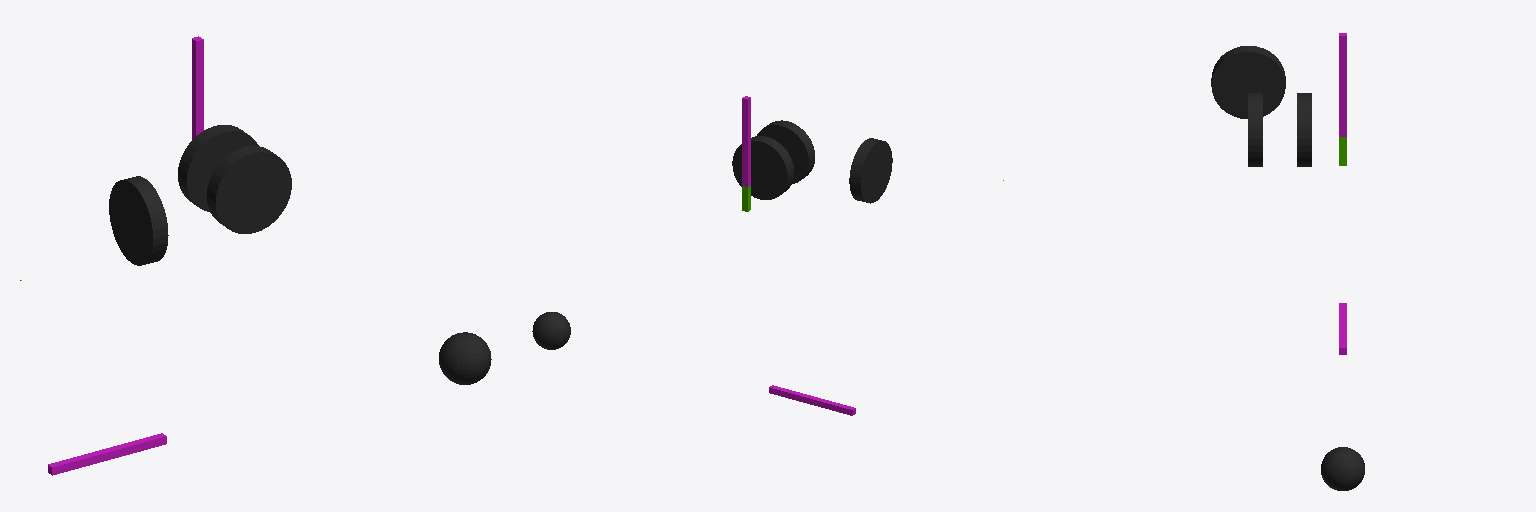
URDF robot description (b1_leg_description):
<?xml version="1.0" ?>
<!-- =================================================================================== -->
<!-- |    This document was autogenerated by xacro from robot.xacro                    | -->
<!-- |    EDITING THIS FILE BY HAND IS NOT RECOMMENDED                                 | -->
<!-- =================================================================================== -->
<robot name="b1_leg_description">
  <material name="grey">
    <color rgba="0.2 0.2 0.2 1.0"/>
  </material>
  <material name="silver">
    <color rgba="0.6980 0.7529 0.8392 1"/>
  </material>
  <material name="transparent_silver">
    <color rgba="0.75 0.75 0.75 0.3"/>
  </material>
  <link name="base">
    <inertial>
      <mass value="1e-6"/>
      <inertia ixx="1e-6" ixy="1e-6" ixz="1e-6" iyy="1e-6" iyz="1e-6" izz="1e-6"/>
    </inertial>
    <visual>
      <origin rpy="0 0 0" xyz="0 0 0"/>
      <geometry>
        <box size="0.001 0.001 0.001"/>
      </geometry>
    </visual>
  </link>
  <joint name="floating_base" type="fixed">
    <origin rpy="0 0 0" xyz="0 0 0"/>
    <parent link="base"/>
    <child link="trunk"/>
  </joint>
  <link name="trunk">
    <visual>
      <origin rpy="0 0 0" xyz="0 0 0"/>
      <geometry>
        <mesh filename="package://example-robot-data/robots/b1_description/meshes/trunk.dae" scale="1 1 1"/>
      </geometry>
      <material name="silver"/>
    </visual>
    <collision>
      <origin rpy="0 0 0" xyz="0 0 0"/>
      <geometry>
        <box size="0.647 0.3 0.15"/>
      </geometry>
    </collision>
    <inertial>
      <origin rpy="0 0 0" xyz="0.008987 0.002243 0.003013"/>
      <mass value="25"/>
      <inertia ixx="0.183142146" ixy="-0.001379002" ixz="-0.027956055" iyy="0.756327752" iyz="0.000193774" izz="0.783777558"/>
    </inertial>
  </link>
  

  <joint name="FL_hip_joint" type="revolute">
    <origin rpy="0 0 0" xyz="0.3455 0.072 0"/>
    <parent link="trunk"/>
    <child link="FL_hip"/>
    <axis xyz="1 0 0"/>
    <dynamics damping="0" friction="0"/>
    <limit effort="91.0035" lower="-0.75" upper="0.75" velocity="19.69"/>
  </joint>
  <joint name="FL_hip_rotor_joint" type="fixed">
    <origin rpy="0 0 0" xyz="0.1955 0.072 0"/>
    <parent link="trunk"/>
    <child link="FL_hip_rotor"/>
  </joint>
  <link name="FL_hip">
    <visual>
      <origin rpy="0 0 0" xyz="0 0 0"/>
      <geometry>
        <mesh filename="package://example-robot-data/robots/b1_description/meshes/hip.dae" scale="1 1 1"/>
      </geometry>
      <material name="silver"/>
    </visual>
    <collision>
      <origin rpy="1.5707963267948966 0 0" xyz="0 0.12675 0"/>
      <geometry>
        <cylinder length="0.04" radius="0.09"/>
      </geometry>
    </collision>
    <inertial>
      <origin rpy="0 0 0" xyz="-0.020298 0.009758 0.000109"/>
      <mass value="2.1"/>
      <inertia ixx="0.00406608" ixy="-0.000288071" ixz="-4.371e-06" iyy="0.008775259" iyz="1.811e-06" izz="0.006060348"/>
    </inertial>
  </link>
  <link name="FL_hip_rotor">
    <visual>
      <origin rpy="0 1.5707963267948966 0" xyz="0 0 0"/>
      <geometry>
        <cylinder length="0.02" radius="0.05"/>
      </geometry>
      <material name="grey"/>
    </visual>
    <collision>
      <origin rpy="0 1.5707963267948966 0" xyz="0 0 0"/>
      <geometry>
        <cylinder length="0.02" radius="0.05"/>
      </geometry>
    </collision>
    <inertial>
      <origin rpy="0 0 0" xyz="0.0 0.0 0.0"/>
      <mass value="0.199"/>
      <inertia ixx="0.00039249" ixy="0.0" ixz="0.0" iyy="0.000219397" iyz="0.0" izz="0.000219397"/>
    </inertial>
  </link>
  <joint name="FL_thigh_joint" type="revolute">
    <origin rpy="0 0 0" xyz="0 0.12675 0"/>
    <parent link="FL_hip"/>
    <child link="FL_thigh"/>
    <axis xyz="0 1 0"/>
    <dynamics damping="0" friction="0"/>
    <limit effort="93.33" lower="-1.0" upper="3.5" velocity="23.32"/>
  </joint>
  <joint name="FL_thigh_rotor_joint" type="fixed">
    <origin rpy="0 0 0" xyz="0.0 0.00935 0"/>
    <parent link="FL_hip"/>
    <child link="FL_thigh_rotor"/>
  </joint>
  <link name="FL_thigh">
    <visual>
      <origin rpy="0 0 0" xyz="0 0 0"/>
      <geometry>
        <mesh filename="package://example-robot-data/robots/b1_description/meshes/thigh.dae" scale="1 1 1"/>
      </geometry>
      <material name="transparent_silver"/>
    </visual>
    <collision>
      <origin rpy="0 1.5707963267948966 0" xyz="0 0 -0.175"/>
      <geometry>
        <box size="0.35 0.05 0.08"/>
      </geometry>
    </collision>
    <inertial>
      <origin rpy="0 0 0" xyz="-0.000235 -0.028704 -0.054169"/>
      <mass value="3.934"/>
      <inertia ixx="0.044459086" ixy="0.000128738" ixz="-0.002343913" iyy="0.046023457" iyz="0.006032996" izz="0.008696078"/>
    </inertial>
  </link>
  <link name="FL_thigh_rotor">
    <visual>
      <origin rpy="1.5707963267948966 0 0" xyz="0 0 0"/>
      <geometry>
        <cylinder length="0.02" radius="0.05"/>
      </geometry>
      <material name="grey"/>
    </visual>
    <collision>
      <origin rpy="1.5707963267948966 0 0" xyz="0 0 0"/>
      <geometry>
        <cylinder length="0.02" radius="0.05"/>
      </geometry>
    </collision>
    <inertial>
      <origin rpy="0 0 0" xyz="0.0 0.0 0.0"/>
      <mass value="0.266"/>
      <inertia ixx="0.000485657" ixy="0.0" ixz="0.0" iyy="0.00091885" iyz="0.0" izz="0.000485657"/>
    </inertial>
  </link>
  <joint name="FL_calf_joint" type="revolute">
    <origin rpy="0 0 0" xyz="0 0 -0.35"/>
    <parent link="FL_thigh"/>
    <child link="FL_calf"/>
    <axis xyz="0 1 0"/>
    <dynamics damping="0" friction="0"/>
    <limit effort="140" lower="-2.6" upper="-0.6" velocity="15.55"/>
  </joint>
  <joint name="FL_calf_rotor_joint" type="fixed">
    <origin rpy="0 0 0" xyz="0.0 -0.0519 0"/>
    <parent link="FL_thigh"/>
    <child link="FL_calf_rotor"/>
  </joint>
  <link name="FL_calf">
    <visual>
      <origin rpy="0 0 0" xyz="0 0 0"/>
      <geometry>
        <mesh filename="package://example-robot-data/robots/b1_description/meshes/calf.dae" scale="1 1 1"/>
      </geometry>
      <material name="">
        <color rgba="0 0.514 0.706 1"/>
      </material>
    </visual>
    <collision>
      <origin rpy="0 1.5707963267948966 0" xyz="0 0 -0.175"/>
      <geometry>
        <box size="0.35 0.04 0.05"/>
      </geometry>
    </collision>
    <inertial>
      <origin rpy="0 0 0" xyz="0.005237 0.0 -0.202805"/>
      <mass value="0.857"/>
      <inertia ixx="0.015011003" ixy="5.2e-08" ixz="0.000250042" iyy="0.015159462" iyz="4.61e-07" izz="0.000375749"/>
    </inertial>
  </link>
  <!-- Crank Bar 1: from FL_calf -->
  <!-- we do not create this link as is part of the calf -->
  <!-- Crank Bar 2: from FL_thigh -->
  <link name="crank_bar2">
    <visual>
      <origin xyz="0 0 0.0215" rpy="0 0 0"/>
      <geometry>
        <box size="0.01 0.01 0.043"/>
      </geometry>
      <material name="">
        <color rgba="0.306 0.718 0 1"/>
      </material>
    </visual>
    <inertial>
      <origin xyz="0 0 0.075"/>
      <!-- <mass value="0.1"/>
      <inertia ixx="1e-5" iyy="1e-5" izz="1e-5"
              ixy="0" ixz="0" iyz="0"/> -->
      <mass value="0.042983526200894434099" />
      <inertia ixx="3.1451616122066398441e-05" ixy="1.9173443803063235313e-07"  ixz="2.0656042968637758375e-09" iyy="2.2236768363406883258e-06" iyz="2.9741566461375707579e-07" izz="3.2300886724211322755e-05" />
    </inertial>
  </link>
  <joint name="crank_bar2_thigh" type="revolute">
    <origin xyz="0 0 -0.0515" rpy="0 0 0"/>
    <parent link="FL_thigh"/>
    <child link="crank_bar2"/>
    <axis xyz="0 1 0"/>
    <limit effort="10" velocity="5" lower="-3.14" upper="3.14"/>
  </joint>
  <!-- Link1 Bar 3: actuator bar (split bar) -->
  <link name="link_1_loop3D_bar3">
    <visual>
      <origin xyz="0 0 0.075" rpy="0 0 0"/>
      <geometry>
        <box size="0.01 0.01 0.15"/>
      </geometry>
      <material name="">
        <color rgba="0.8 0.145 0.788 1"/>
      </material>
    </visual>
    <inertial>
      <origin xyz="0 0 0.0215"/>
      <!-- <mass value="0.75"/>
      <inertia ixx="1e-5" iyy="1e-5" izz="1e-5"
              ixy="0" ixz="0" iyz="0"/> -->
      <mass value="0.042983526200894434099" />
      <inertia ixx="3.1451616122066398441e-05" ixy="1.9173443803063235313e-07"  ixz="2.0656042968637758375e-09" iyy="2.2236768363406883258e-06" iyz="2.9741566461375707579e-07" izz="3.2300886724211322755e-05" />
    </inertial>
  </link>
  <joint name="link_1_crank_bar1" type="revolute">
    <origin xyz="0.00322198 0 0.04287912" rpy="0 0 0"/>
    <parent link="FL_calf"/>
    <child link="link_1_loop3D_bar3"/>
    <axis xyz="0 1 0"/>
    <limit effort="10" velocity="5" lower="-3.14" upper="3.14"/>
  </joint>
  <!-- Link2 Bar 3: actuator bar (split bar) -->
  <link name="link_2_loop3D_bar3">
    <visual>
      <origin xyz="0 0 0.075" rpy="0 0 0"/>
      <geometry>
        <box size="0.01 0.01 0.15"/>
      </geometry>
      <material name="">
        <color rgba="0.8 0.145 0.788 1"/>
      </material>
    </visual>
    <inertial>
      <origin xyz="0 0 0.0215"/>
      <!-- <mass value="0.75"/>
      <inertia ixx="1e-5" iyy="1e-5" izz="1e-5"
              ixy="0" ixz="0" iyz="0"/> -->
      <mass value="0.042983526200894434099" />
      <inertia ixx="3.1451616122066398441e-05" ixy="1.9173443803063235313e-07"  ixz="2.0656042968637758375e-09" iyy="2.2236768363406883258e-06" iyz="2.9741566461375707579e-07" izz="3.2300886724211322755e-05" />
    </inertial>
  </link>
  <joint name="link_2_crank_bar2" type="revolute">
    <origin xyz="0 0 0.043" rpy="0 0 0"/>
    <parent link="crank_bar2"/>
    <child link="link_2_loop3D_bar3"/>
    <axis xyz="0 1 0"/>
    <limit effort="10" velocity="5" lower="-3.14" upper="3.14"/>
  </joint>
  <!-- Dummy link for the constraint -->
  <link name="closedloop3D_1A">
    <inertial>
      <origin xyz="0 0 0" rpy="0 0 0" />
      <mass value="1e-9" />
      <inertia ixx="0" ixy="0" ixz="0" iyy="0" iyz="0" izz="0" />
    </inertial>
  </link>
  <joint name="closedloop3D_1A_frame" type="fixed">
    <origin xyz="0 0 0.15" rpy="0 3.1415 0"/> 
    <parent link="link_2_loop3D_bar3" />
    <child link="closedloop3D_1A" />
    <axis xyz="0 0 0" />
  </joint>
  <link name="closedloop3D_1B">
    <inertial>
      <origin xyz="0 0 0" rpy="0 0 0" />
      <mass value="1e-9" />
      <inertia ixx="0" ixy="0" ixz="0" iyy="0" iyz="0" izz="0" />
    </inertial>
  </link>
  <joint name="closedloop3D_1B_frame" type="fixed">
    <origin xyz="0 0 0.15" rpy="0 0 0"/> 
    <parent link="link_1_loop3D_bar3" />
    <child link="closedloop3D_1B" />
    <axis xyz="0 0 0" />
  </joint>

  <link name="FL_calf_rotor">
    <visual>
      <origin rpy="1.5707963267948966 0 0" xyz="0 0 0"/>
      <geometry>
        <cylinder length="0.02" radius="0.05"/>
      </geometry>
      <material name="grey"/>
    </visual>
    <collision>
      <origin rpy="1.5707963267948966 0 0" xyz="0 0 0"/>
      <geometry>
        <cylinder length="0.02" radius="0.05"/>
      </geometry>
    </collision>
    <inertial>
      <origin rpy="0 0 0" xyz="0.0 0.0 0.0"/>
      <mass value="0.266"/>
      <inertia ixx="0.000485657" ixy="0.0" ixz="0.0" iyy="0.00091885" iyz="0.0" izz="0.000485657"/>
    </inertial>
  </link>
  <joint name="FL_foot_fixed" type="fixed">
    <origin rpy="0 0 0" xyz="0 0 -0.35"/>
    <parent link="FL_calf"/>
    <child link="FL_foot"/>
  </joint>
  <link name="FL_foot">
    <visual>
      <origin rpy="0 0 0" xyz="0 0 0"/>
      <geometry>
        <sphere radius="0.03"/>
      </geometry>
      <material name="grey"/>
    </visual>
    <collision>
      <origin rpy="0 0 0" xyz="0 0 0"/>
      <geometry>
        <sphere radius="0.04"/>
      </geometry>
    </collision>
    <inertial>
      <mass value="0.05"/>
      <inertia ixx="3.2000000000000005e-05" ixy="0.0" ixz="0.0" iyy="3.2000000000000005e-05" iyz="0.0" izz="3.2000000000000005e-05"/>
    </inertial>
  </link>
  <transmission name="FL_hip_tran">
    <type>transmission_interface/SimpleTransmission</type>
    <joint name="FL_hip_joint">
      <hardwareInterface>hardware_interface/EffortJointInterface</hardwareInterface>
    </joint>
    <actuator name="FL_hip_motor">
      <hardwareInterface>hardware_interface/EffortJointInterface</hardwareInterface>
      <mechanicalReduction>1</mechanicalReduction>
    </actuator>
  </transmission>
  <transmission name="FL_thigh_tran">
    <type>transmission_interface/SimpleTransmission</type>
    <joint name="FL_thigh_joint">
      <hardwareInterface>hardware_interface/EffortJointInterface</hardwareInterface>
    </joint>
    <actuator name="FL_thigh_motor">
      <hardwareInterface>hardware_interface/EffortJointInterface</hardwareInterface>
      <mechanicalReduction>1</mechanicalReduction>
    </actuator>
  </transmission>
  <transmission name="FL_calf_tran">
    <type>transmission_interface/SimpleTransmission</type>
    <joint name="FL_calf_joint">
      <hardwareInterface>hardware_interface/EffortJointInterface</hardwareInterface>
    </joint>
    <actuator name="FL_calf_motor">
      <hardwareInterface>hardware_interface/EffortJointInterface</hardwareInterface>
      <mechanicalReduction>1</mechanicalReduction>
    </actuator>
  </transmission>
  <!-- <xacro:stairs stairs="15" xpos="0" ypos="2.0" zpos="0" /> -->
</robot>

--- Facts derived from the render (not from the file) ---
Views: 3 orthographic renders of the robot side by side, from view 1: azimuth 30°, elevation 25°; view 2: azimuth 150°, elevation 25°; view 3: azimuth 270°, elevation 25°.
Model b1_leg_description with 14 links and 13 joints (6 revolute, 7 fixed), rooted at base, posed joints at zero except 1 at the middle of their limits (FL_calf_joint = -1.6).
Links seen in each view (by area): view 1: FL_thigh_rotor, FL_hip_rotor, FL_calf_rotor, FL_foot, link_1_loop3D_bar3, link_2_loop3D_bar3; view 2: FL_calf_rotor, FL_hip_rotor, FL_thigh_rotor, FL_foot, link_2_loop3D_bar3, link_1_loop3D_bar3; view 3: FL_hip_rotor, FL_foot, FL_thigh_rotor, FL_calf_rotor, link_2_loop3D_bar3.
Link boxes in pixels (<box>): FL_thigh_rotor: <box>207,146,291,233</box>; FL_hip_rotor: <box>109,176,168,265</box>; FL_calf_rotor: <box>178,125,258,212</box>; FL_foot: <box>439,332,491,384</box>; link_1_loop3D_bar3: <box>48,433,166,475</box>; link_2_loop3D_bar3: <box>192,36,203,139</box>; FL_calf_rotor: <box>732,136,793,199</box>; FL_hip_rotor: <box>849,138,892,203</box>; FL_thigh_rotor: <box>757,120,814,183</box>; FL_foot: <box>532,312,570,349</box>; link_2_loop3D_bar3: <box>742,96,750,186</box>; link_1_loop3D_bar3: <box>769,385,855,415</box>; FL_hip_rotor: <box>1211,46,1285,118</box>; FL_foot: <box>1321,447,1364,490</box>; FL_thigh_rotor: <box>1248,93,1262,166</box>; FL_calf_rotor: <box>1297,93,1311,166</box>; link_2_loop3D_bar3: <box>1339,33,1346,136</box>.
Bounding box of the posed robot: 0.7258 × 0.2292 × 0.5113 m (x, y, z).
0 mesh visuals loaded from 4 distinct referenced files (none loaded); not drawn: 4 (reference not matched to a file when rendering).
